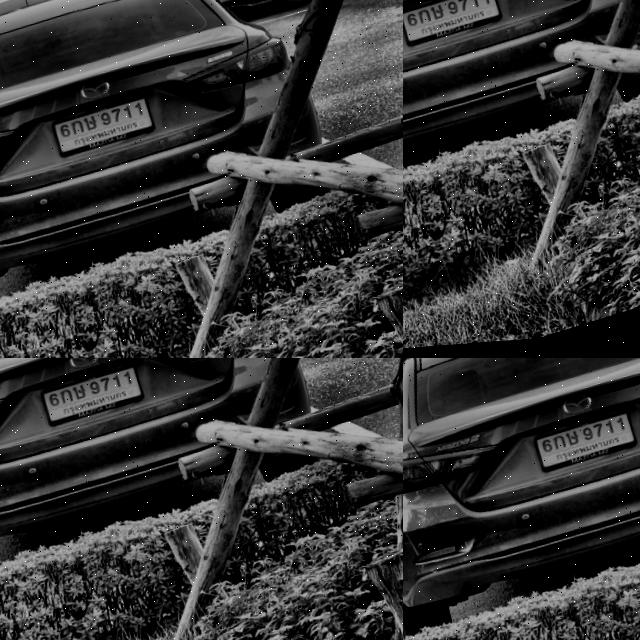license-plate: (527, 412, 634, 479)
